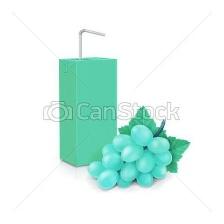carton: (48, 55, 120, 168)
drinking_straw: (68, 23, 107, 60)
